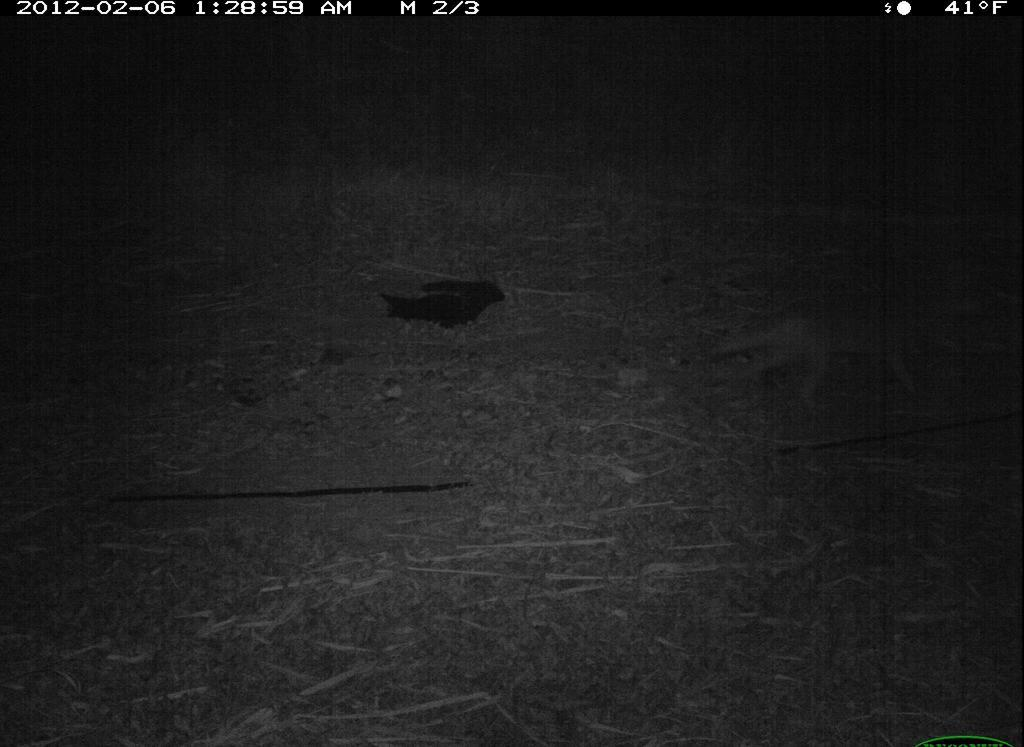coyote: (703, 299, 980, 422)
